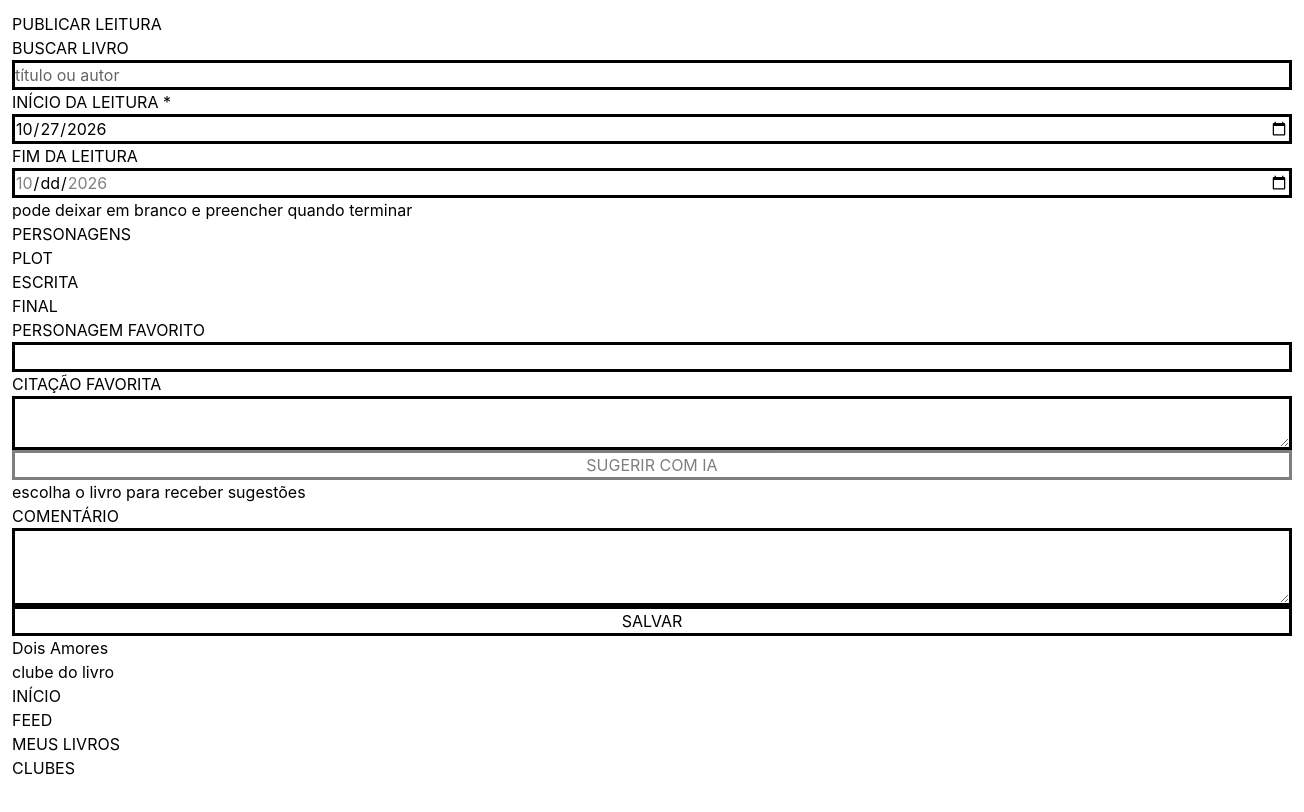
Test: Publicar leitura › não salva sem livro
This screenshot has width=1304, height=812.
Click the button "SALVAR" at (652, 621), box [12,606,1292,636]
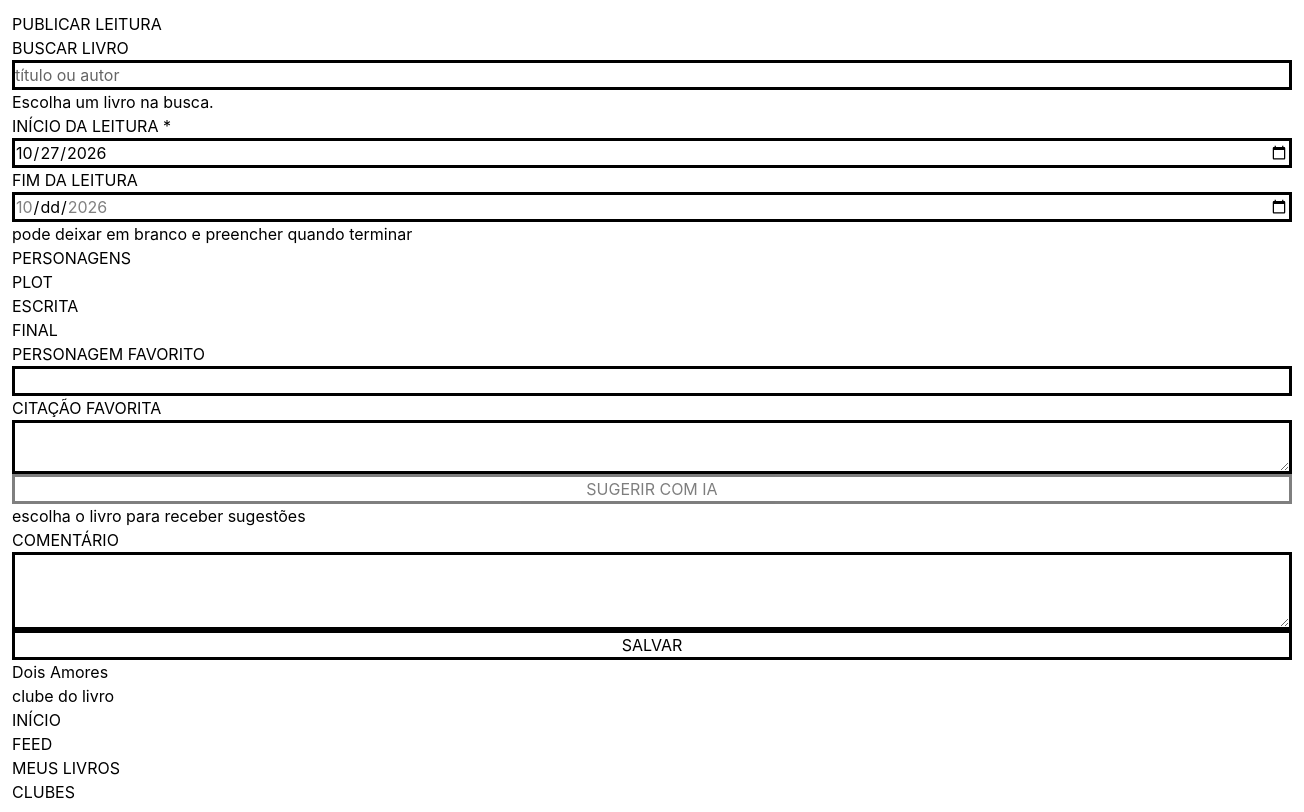
Expected: the text "Escolha um livro na busca." is shown, [12,92,214,112]
